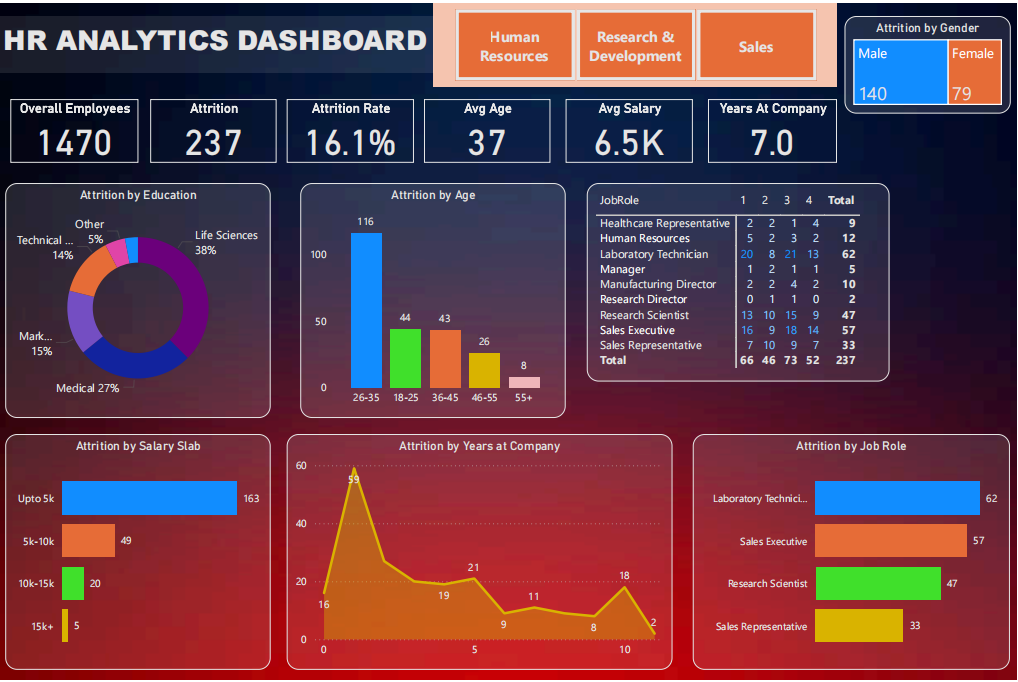

This screenshot's page, from the dashboard's own definition file:
{"tool":"powerbi","page":{"name":"Page 1","canvas":[1200,800],"ordinal":0},"visuals":[{"type":"card","title":"Overall Employees","fields":{"Values":["CountNonNull(HR_Analytics.EmpID)"]},"box":[13.4,112.6,150.1,75.1],"z":0},{"type":"card","title":"Attrition Rate","fields":{"Values":["HR_Analytics.AttritionRate"]},"box":[339.1,112.6,150.1,75.1],"z":1000},{"type":"card","title":"Avg Age","fields":{"Values":["Avg(HR_Analytics.Age)"]},"box":[501.3,112.6,148.8,75.1],"z":2000},{"type":"card","title":"Attrition","fields":{"Values":["Sum(HR_Analytics.AttritionCount)"]},"box":[178.3,112.6,148.8,75.1],"z":3000},{"type":"card","title":"Avg Salary","fields":{"Values":["Avg(HR_Analytics.MonthlyIncome)"]},"box":[667.6,112.6,150.1,75.1],"z":4000},{"type":"card","title":" Years At Company","fields":{"Values":["Avg(HR_Analytics.YearsAtCompany)"]},"box":[836.5,112.6,151.5,75.1],"z":5000},{"type":"donutChart","title":"Attrition  by Education","fields":{"Category":["HR_Analytics.EducationField"],"Y":["Sum(HR_Analytics.AttritionCount)"]},"box":[6.7,211.8,313.7,277.5],"z":6000},{"type":"columnChart","title":"Attrition  by Age","fields":{"Category":["HR_Analytics.AgeGroup"],"Y":["Sum(HR_Analytics.AttritionCount)"]},"box":[355.2,211.8,312.3,277.5],"z":7000},{"type":"pivotTable","fields":{"Rows":["HR_Analytics.JobRole"],"Columns":["HR_Analytics.JobSatisfaction"],"Values":["Sum(HR_Analytics.AttritionCount)"]},"box":[693,211.8,356.6,234.6],"z":8000},{"type":"barChart","title":"Attrition by Salary Slab","fields":{"Category":["HR_Analytics.SalarySlab"],"Y":["Sum(HR_Analytics.AttritionCount)"]},"box":[6.7,508,313.7,277.5],"z":9000},{"type":"barChart","title":"Attrition by Job Role","fields":{"Category":["HR_Analytics.JobRole"],"Y":["Sum(HR_Analytics.AttritionCount)"]},"box":[817.7,508,374,277.5],"z":10000},{"type":"areaChart","title":"Attrition by Years at Company","fields":{"Y":["Sum(HR_Analytics.AttritionCount)"],"Category":["HR_Analytics.YearsAtCompany"]},"box":[339.1,508,454.4,277.5],"z":11000},{"type":"slicer","fields":{"Values":["HR_Analytics.Department"]},"box":[512.1,0,475.9,97.9],"z":12000},{"type":"textbox","box":[0,14.7,512.1,67],"z":13000},{"type":"treemap","title":"Attrition  by Gender","fields":{"Values":["Sum(HR_Analytics.AttritionCount)"],"Group":["HR_Analytics.Gender"]},"box":[997.3,14.7,195.7,115.3],"z":14000}]}

Visuals, with their boxes in screenshot pixels (x1, y1, x2, y2), scaled from the page's 1200x800 canvas onto the 1018x682 screenshot:
"Overall Employees" card: bbox(11, 96, 139, 160)
"Attrition Rate" card: bbox(288, 96, 415, 160)
"Avg Age" card: bbox(425, 96, 552, 160)
"Attrition" card: bbox(151, 96, 277, 160)
"Avg Salary" card: bbox(566, 96, 694, 160)
" Years At Company" card: bbox(710, 96, 838, 160)
"Attrition  by Education" donutChart: bbox(6, 181, 272, 417)
"Attrition  by Age" columnChart: bbox(301, 181, 566, 417)
pivotTable - HR_Analytics.JobRole x HR_Analytics.JobSatisfaction: bbox(588, 181, 890, 381)
"Attrition by Salary Slab" barChart: bbox(6, 433, 272, 670)
"Attrition by Job Role" barChart: bbox(694, 433, 1011, 670)
"Attrition by Years at Company" areaChart: bbox(288, 433, 673, 670)
slicer - HR_Analytics.Department: bbox(434, 0, 838, 83)
textbox: bbox(0, 13, 434, 70)
"Attrition  by Gender" treemap: bbox(846, 13, 1012, 111)
